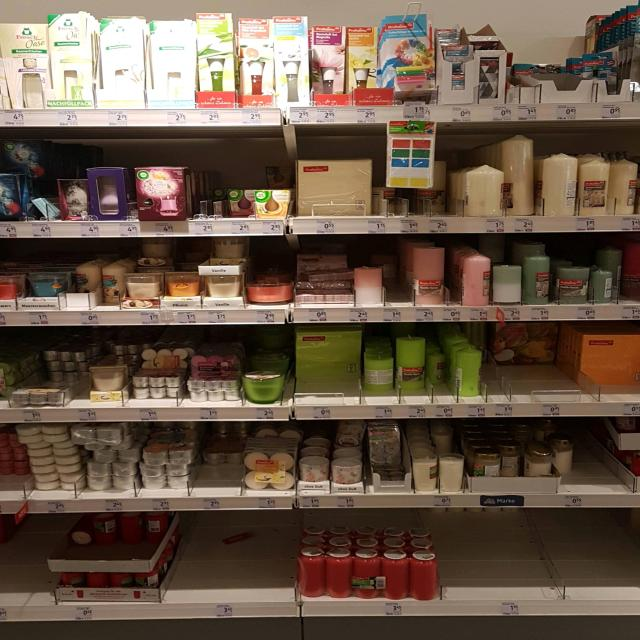empty: (440, 513, 640, 599), (177, 512, 293, 603), (576, 426, 614, 489)
